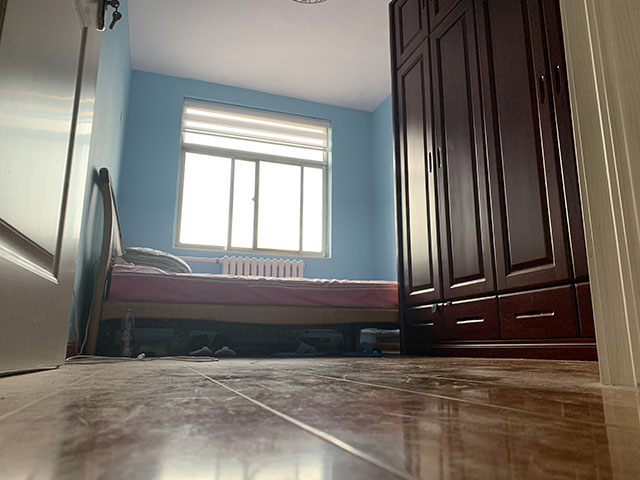bed: (84, 165, 399, 359)
cabinet: (387, 1, 599, 361)
slippers: (271, 340, 329, 358), (331, 341, 384, 359)
wire: (66, 255, 219, 364)
